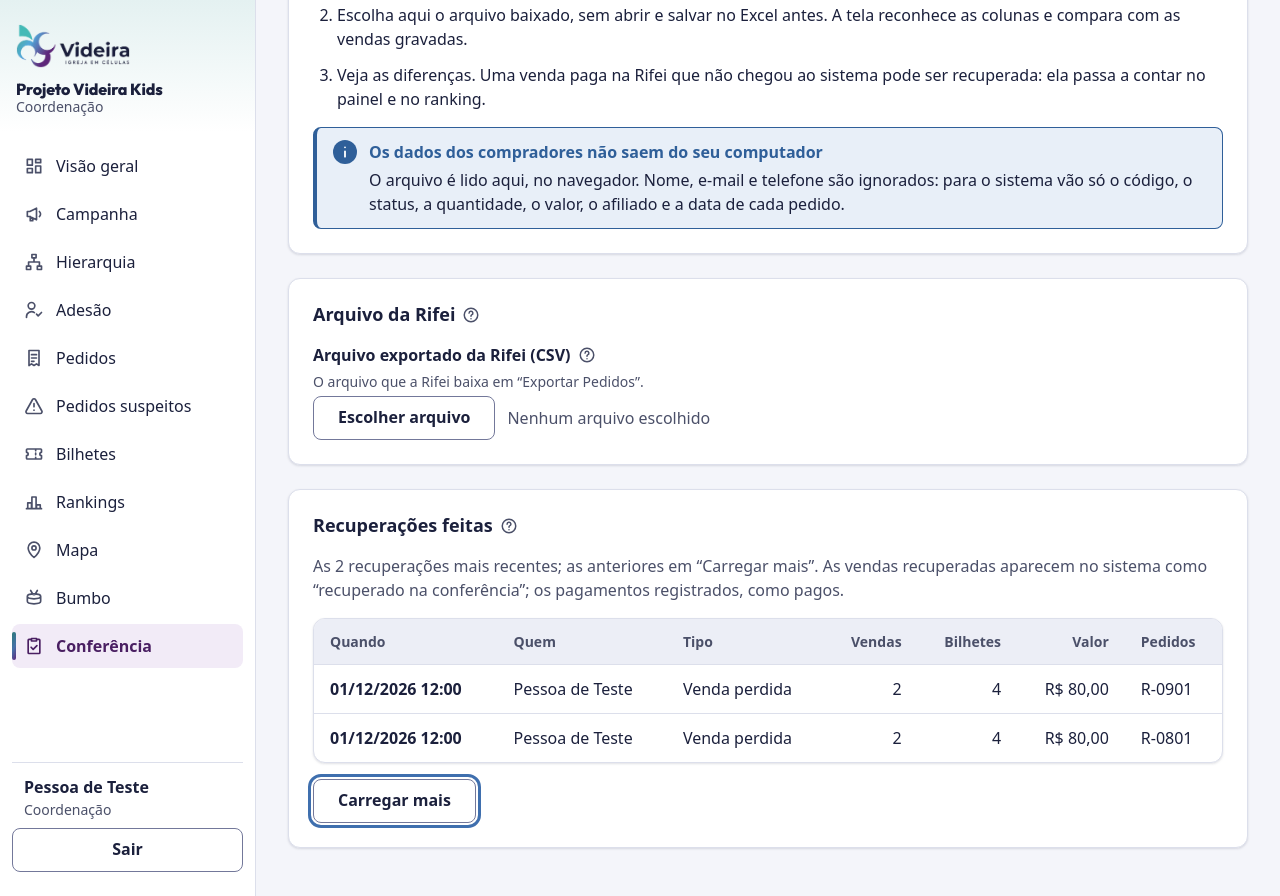
CA4: a tela da conferência › o histórico vem de 50 em 50: “Carregar mais” pede a página seguinte pelo cursor e junta
(page scrolled)
Expected: the file field labelled "Arquivo exportado da Rifei (CSV)" is shown, [313,343,570,367]
Expected: the text "R-0901" is shown, [1141,678,1192,700]
Click the button "Carregar mais". click: (394, 801)
box: [313,779,476,823]
(page scrolled)
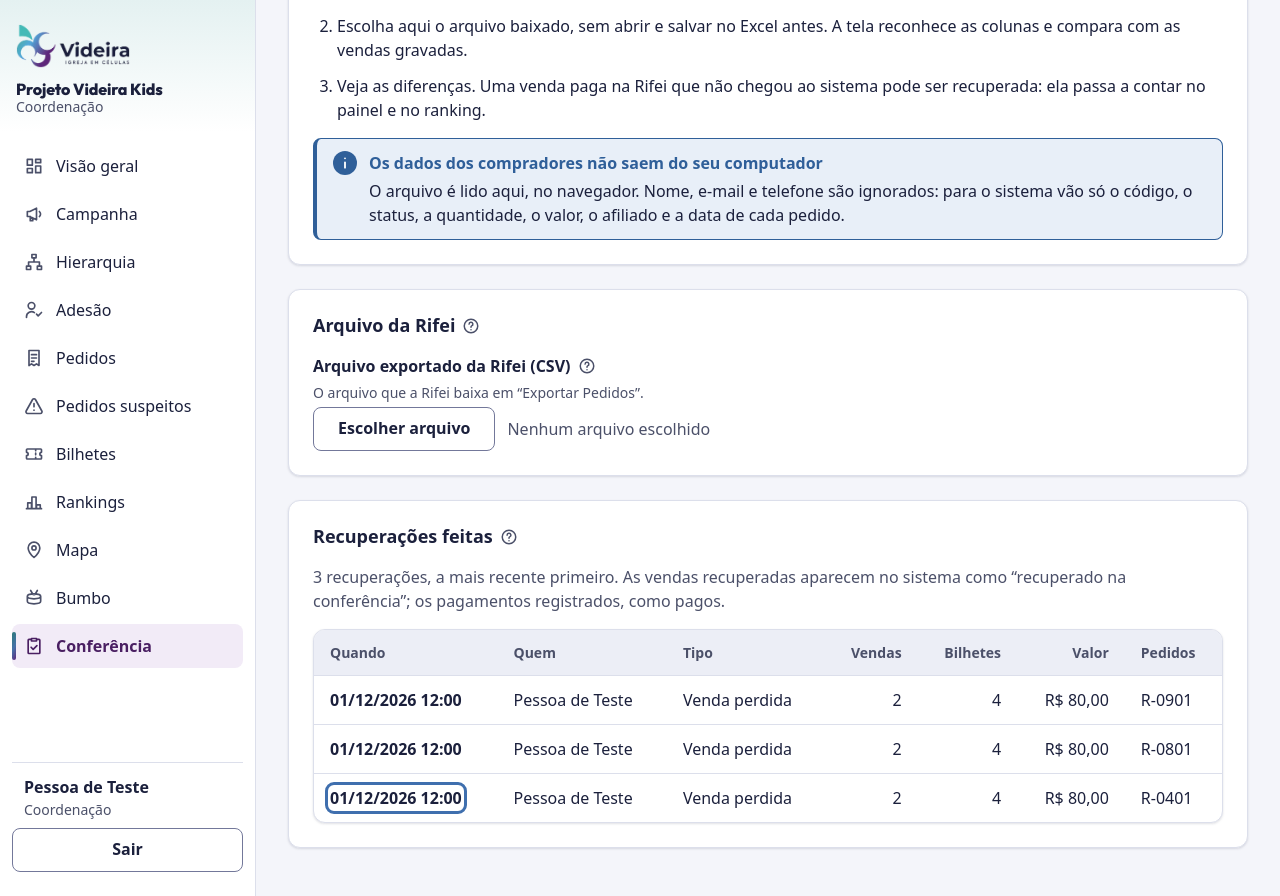
Expected: the text "R-0401" is shown, [1141,787,1192,809]
Expected: the text "Carregar mais" is gone
Expected: the text "3 recuperações, a mais recente primeiro." is shown, [313,566,1126,612]
